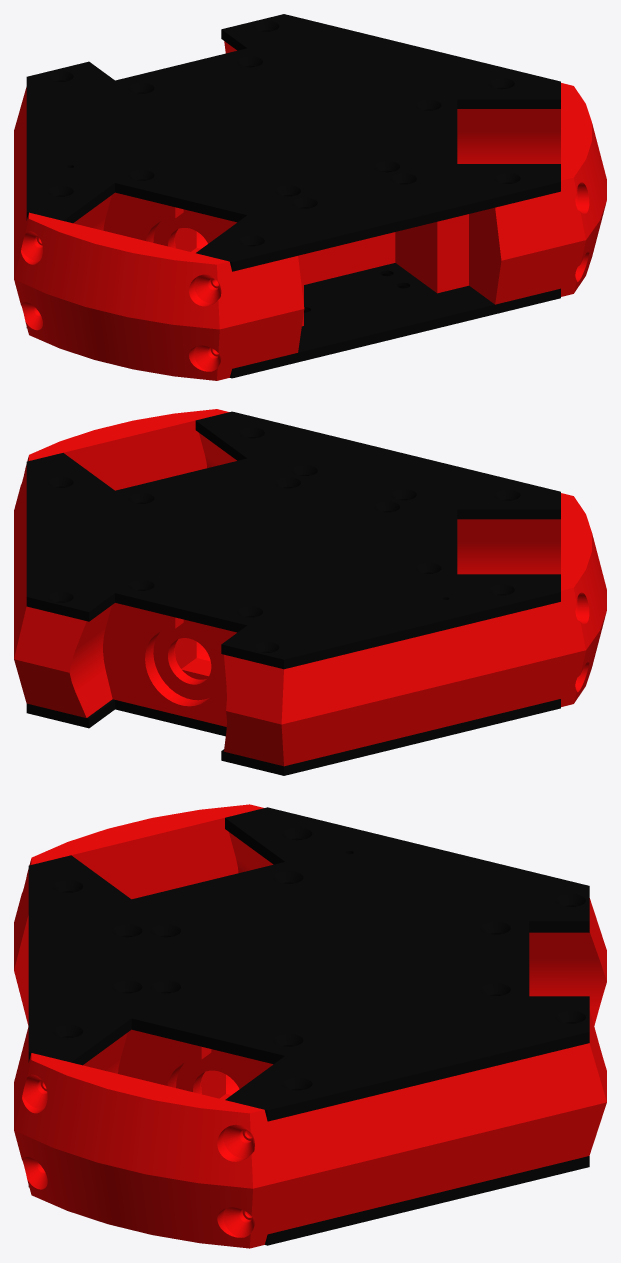
The model's file is Stab Rave Omni Chassis 1.dae.
The picture shows the model from 3 angles, top to bottom: view 1: azimuth 30°, elevation 25°; view 2: azimuth 150°, elevation 25°; view 3: azimuth 270°, elevation 25°; orthographic projection. The views are drawn at different scales.
Visible parts, largest first — view 1: Stab Rave Omni Plate (×2), Stab Rave Omni Chassis, Stab Rave Omni Wheel Guard (×2); view 2: Stab Rave Omni Plate (×2), Stab Rave Omni Chassis, Stab Rave Omni Wheel Guard (×2); view 3: Stab Rave Omni Plate (×2), Stab Rave Omni Chassis, Stab Rave Omni Wheel Guard (×2).
Part boxes in pixels (left/top/right/bottom): Stab Rave Omni Plate (×2): left=26, top=14, right=560, bottom=378; Stab Rave Omni Chassis: left=14, top=41, right=560, bottom=368; Stab Rave Omni Wheel Guard (×2): left=14, top=83, right=606, bottom=380; Stab Rave Omni Plate (×2): left=26, top=411, right=560, bottom=775; Stab Rave Omni Chassis: left=14, top=433, right=560, bottom=766; Stab Rave Omni Wheel Guard (×2): left=14, top=409, right=606, bottom=706; Stab Rave Omni Plate (×2): left=28, top=807, right=589, bottom=1245; Stab Rave Omni Chassis: left=14, top=832, right=606, bottom=1234; Stab Rave Omni Wheel Guard (×2): left=14, top=804, right=282, bottom=1248.
Size of the model in its own units: 0.1974 by 0.1525 by 0.0384.
